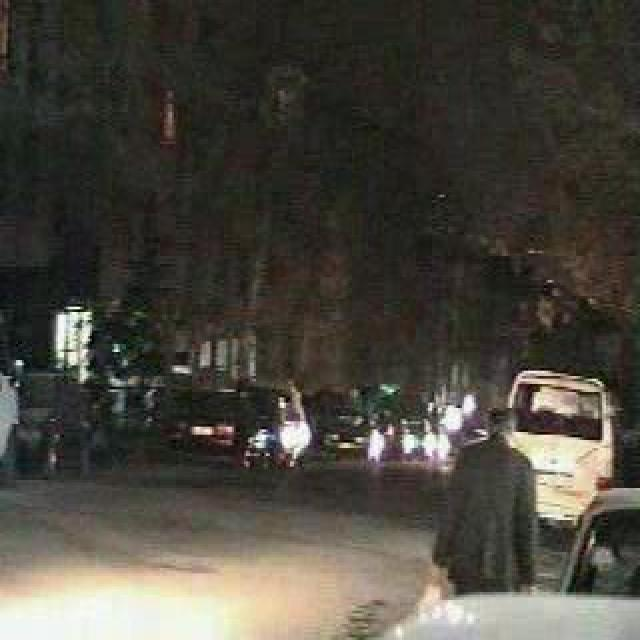other: (3, 572, 233, 634), (372, 382, 458, 460), (276, 416, 315, 464)
